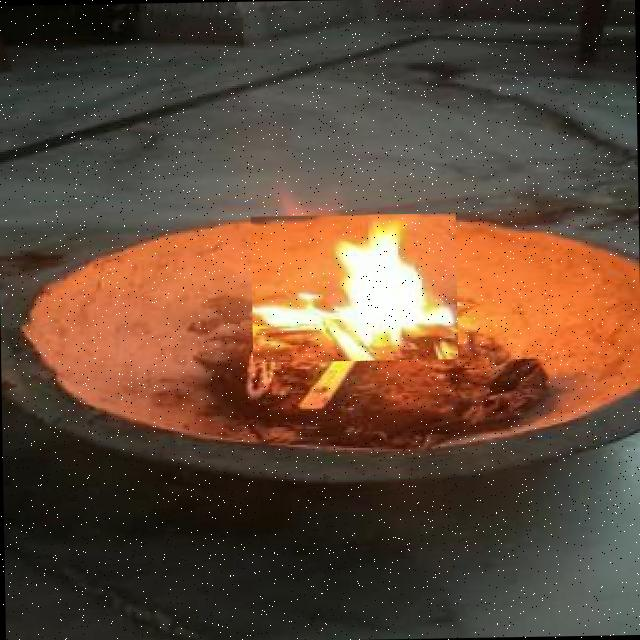fire: (250, 212, 458, 362)
